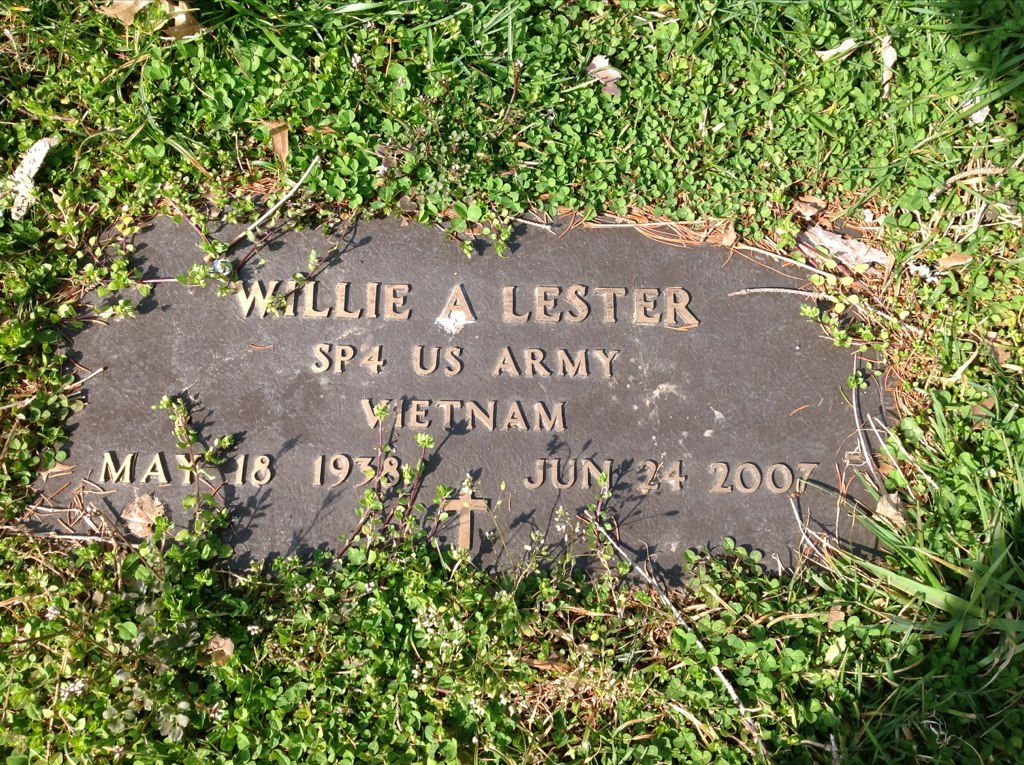flat: (38, 178, 891, 595)
